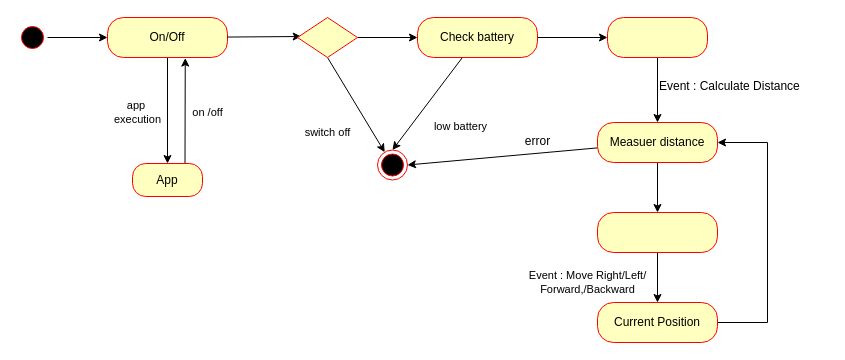
The diagram is 845 pixels wide and 360 high, and some of its shapes have lost their labels. The centre of each missing label's shape, as x and y in pixels:
Detect Obstacle: the point at 657,232
Turn On Fan: the point at 657,37
